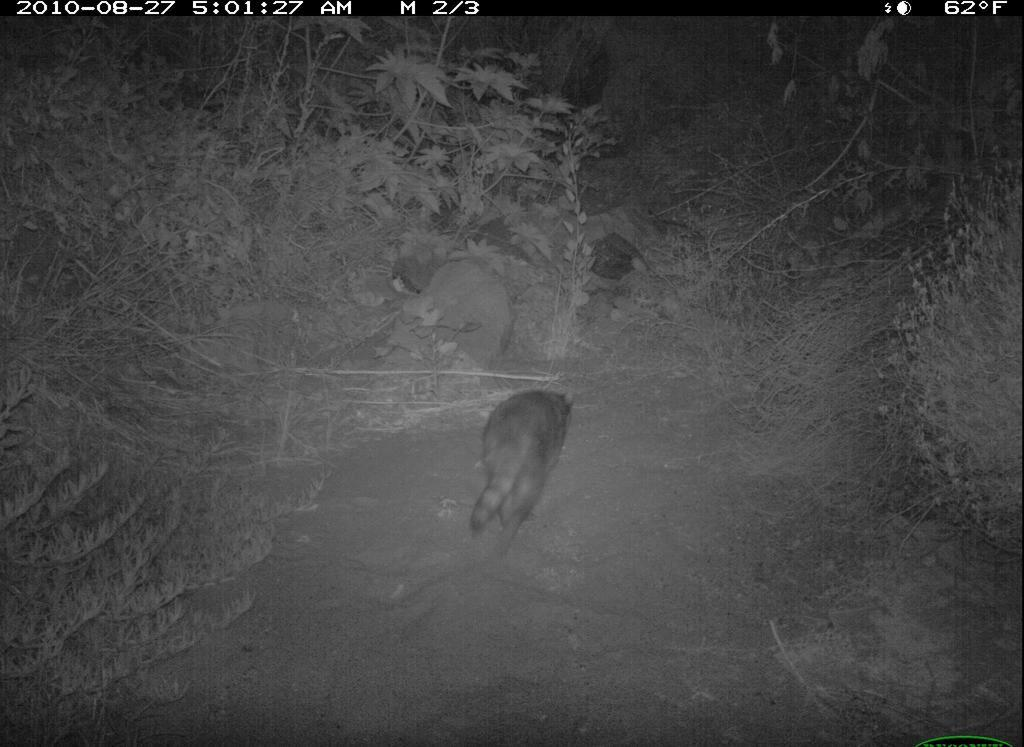raccoon: (472, 369, 588, 565)
